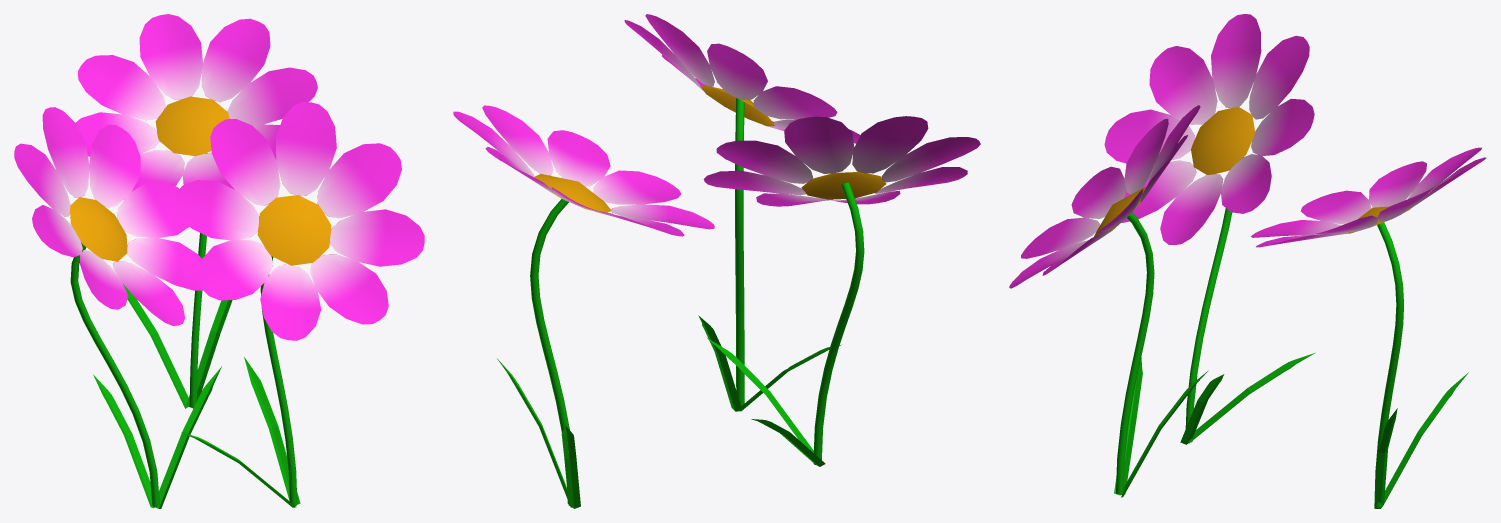
Rendered from pink flower bunch.fbx.
The picture shows the model from 3 angles, left to right: view 1: azimuth 30°, elevation 25°; view 2: azimuth 150°, elevation 25°; view 3: azimuth 270°, elevation 25°; orthographic projection. The views are drawn at different scales.
Parts seen in each view (by area): view 1: pink flower bunch; view 2: pink flower bunch; view 3: pink flower bunch.
Boxes of the visible parts, x1=… form: pink flower bunch: x1=14, y1=14, x2=424, y2=508; pink flower bunch: x1=453, y1=14, x2=980, y2=508; pink flower bunch: x1=1009, y1=14, x2=1486, y2=508.
Size of the model in its own units: 1081 by 1057 by 1205.
